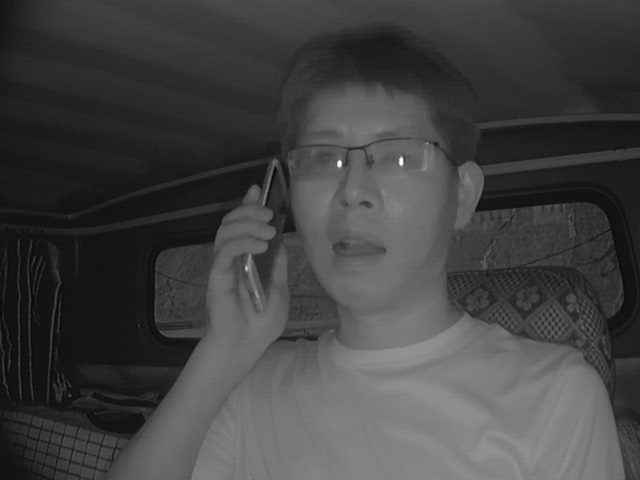hand: (197, 188, 297, 342)
